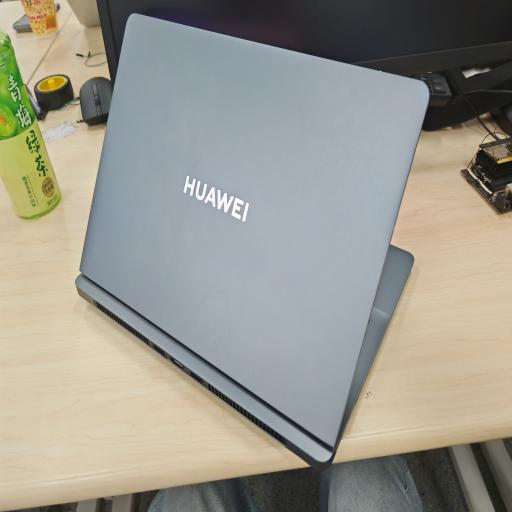laptop: (76, 14, 428, 469)
mouse: (80, 77, 112, 125)
